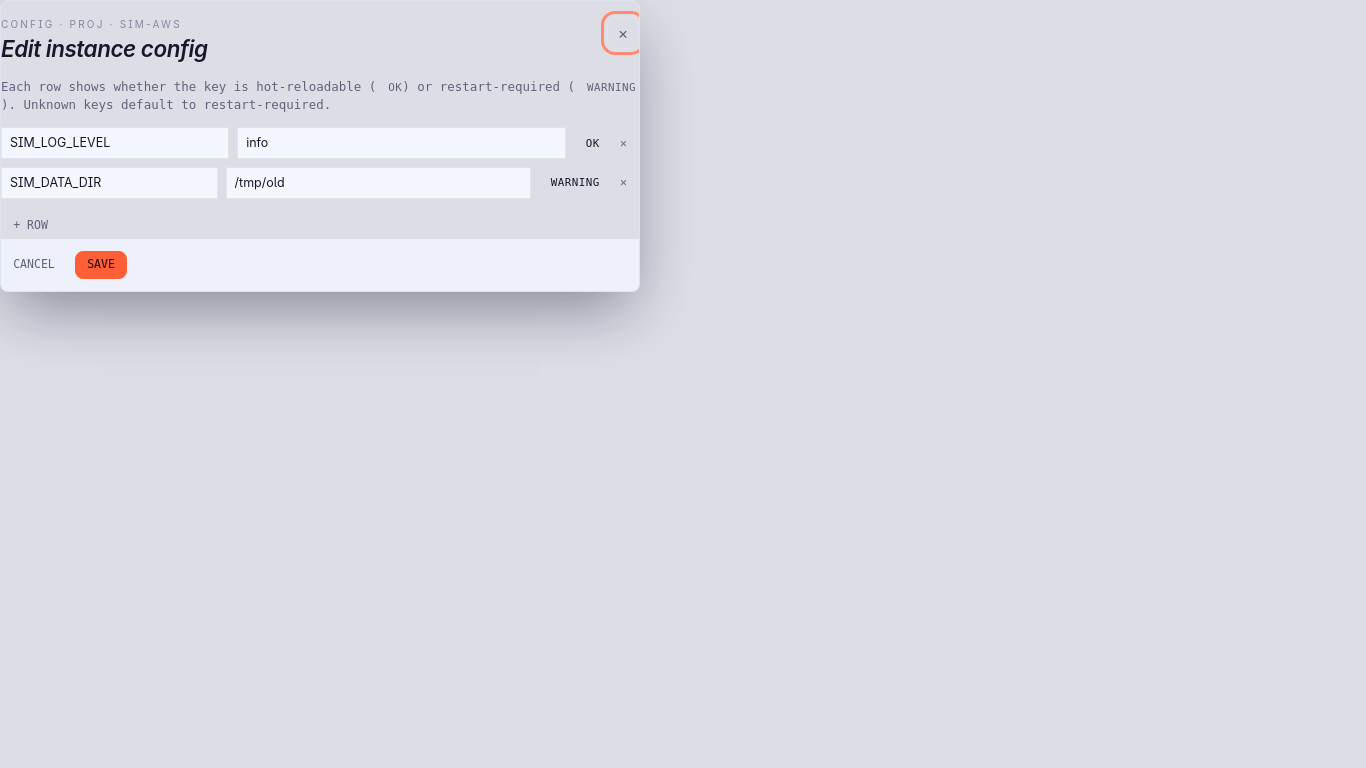
Scenario: ConfigEditModal › save → no diff → UI shows Close only
The image size is (1366, 768).
Step 1. Click the button "Save" → (101, 265), box [75,251,127,279]
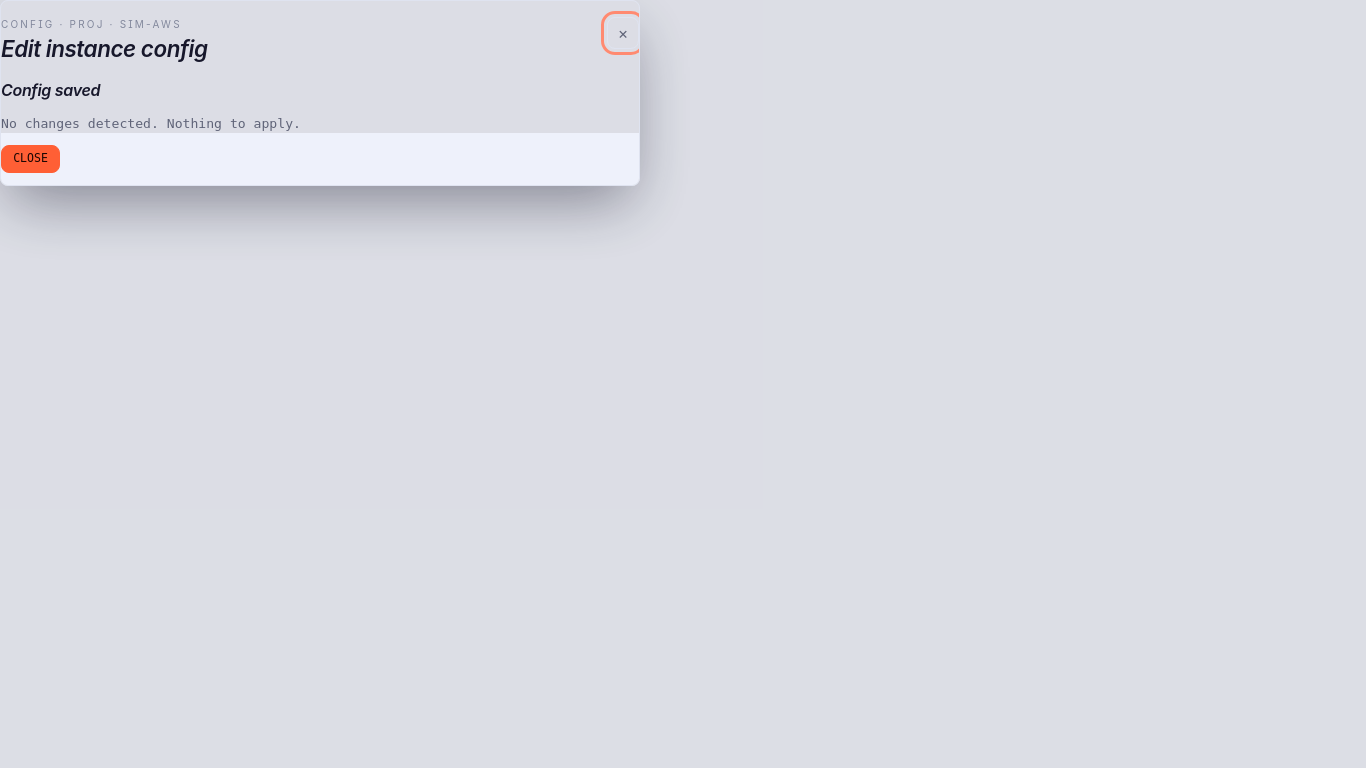
Expected: the number of buttons named "close" is 2, [607,17,639,49]; [1,146,60,173]
Now the text "No changes detected. Nothing to apply." is shown, box [1,116,301,131]
